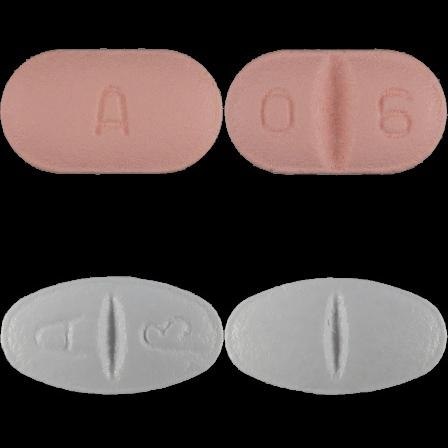0615-8023: (0, 0, 224, 224)
